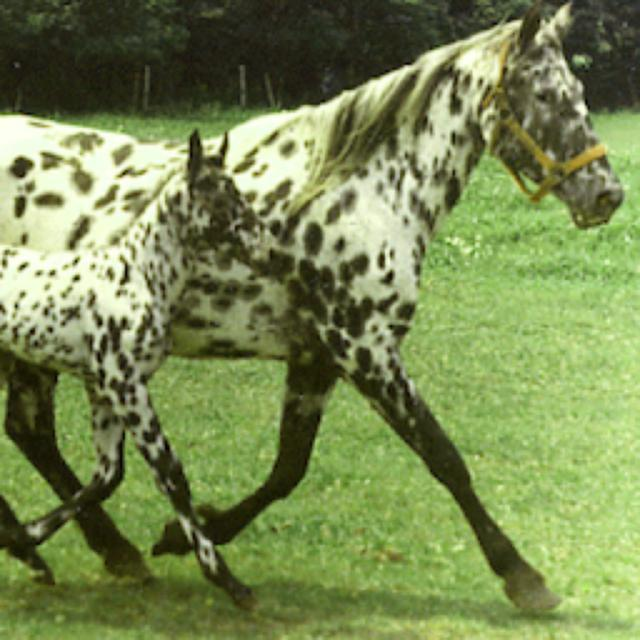Horse: (2, 0, 636, 620)
